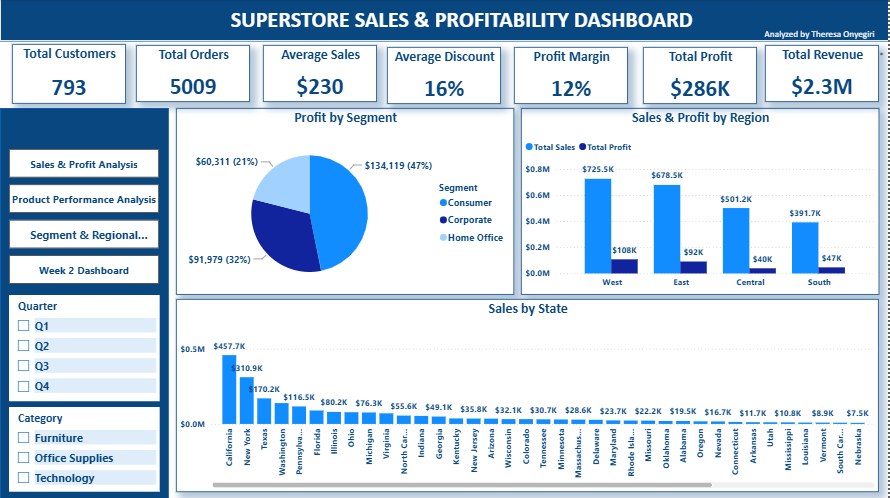

What the dashboard file says about the page in this screenshot:
{"tool":"powerbi","page":{"name":"Segment & Regional Analysis","canvas":[1280,720],"ordinal":2},"visuals":[{"type":"shape","box":[0,157,243.4,563],"z":0},{"type":"shape","box":[0,0,1280,61],"z":1000},{"type":"textbox","box":[233.3,5.8,863.3,49.6],"z":2000},{"type":"card","title":"Total Customers","fields":{"Values":["Sample - Superstore.Total customer"]},"box":[17.3,64.8,164.2,86.4],"z":3000},{"type":"pageNavigator","box":[13,216,216.9,197],"z":4000},{"type":"pieChart","title":"Profit by Segment","fields":{"Category":["Sample - Superstore.Segment"],"Y":["Sample - Superstore.Total Profit"]},"box":[253.4,157,486.7,269.3],"z":5000},{"type":"clusteredColumnChart","title":"Sales & Profit by Region","fields":{"Category":["Sample - Superstore.Region"],"Y":["Sample - Superstore.Total Sales","Sample - Superstore.Total Profit"]},"box":[750.2,157,515.5,269.3],"z":6000},{"type":"columnChart","title":"Sales by State","fields":{"Category":["Sample - Superstore.State"],"Y":["Sample - Superstore.Total Sales"]},"box":[253.4,432,1012.3,277.9],"z":7000},{"type":"card","title":"Total Orders","fields":{"Values":["Sample - Superstore.Total Orders"]},"box":[195.8,66.2,164.4,82.2],"z":8000},{"type":"card","title":"Average Sales","fields":{"Values":["Sample - Superstore.Average Sales"]},"box":[378.7,66.2,164.2,82.1],"z":9000},{"type":"card","title":"Average Discount","fields":{"Values":["Sample - Superstore.Average Discount"]},"box":[557.3,69.1,164.4,82.2],"z":10000},{"type":"card","title":"Profit Margin","fields":{"Values":["Sample - Superstore.Profit Margin"]},"box":[740.2,69.1,164.4,82.2],"z":11000},{"type":"card","title":"Total Profit","fields":{"Values":["Sample - Superstore.Total Profit"]},"box":[925.9,69.1,164.4,82.2],"z":12000},{"type":"card","title":"Total Revenue","fields":{"Values":["Sample - Superstore.Total Sales"]},"box":[1101.6,66.2,164.4,82.2],"z":13000},{"type":"textbox","box":[1095.8,36,180,31.7],"z":14000},{"type":"slicer","fields":{"Values":["DateTable.Quarter"]},"box":[13,426.2,216.9,153.1],"z":14001},{"type":"slicer","fields":{"Values":["Sample - Superstore.Category"]},"box":[13,587.5,216.9,121.9],"z":14002}]}

Visuals, with their boxes in screenshot pixels (x1, y1, x2, y2), scaled from the page's 1280x720 canvas onto the 890x498 screenshot:
shape: rect(0, 109, 169, 497)
shape: rect(0, 0, 889, 42)
textbox: rect(162, 4, 762, 38)
"Total Customers" card: rect(12, 45, 126, 105)
pageNavigator: rect(9, 149, 160, 286)
"Profit by Segment" pieChart: rect(176, 109, 515, 295)
"Sales & Profit by Region" clusteredColumnChart: rect(522, 109, 880, 295)
"Sales by State" columnChart: rect(176, 299, 880, 491)
"Total Orders" card: rect(136, 46, 250, 103)
"Average Sales" card: rect(263, 46, 377, 103)
"Average Discount" card: rect(387, 48, 502, 105)
"Profit Margin" card: rect(515, 48, 629, 105)
"Total Profit" card: rect(644, 48, 758, 105)
"Total Revenue" card: rect(766, 46, 880, 103)
textbox: rect(762, 25, 887, 47)
slicer - DateTable.Quarter: rect(9, 295, 160, 401)
slicer - Sample - Superstore.Category: rect(9, 406, 160, 491)
